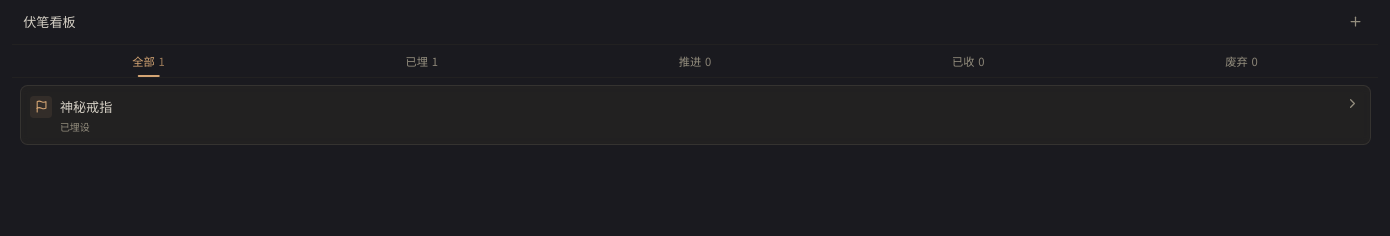
Test: ForeshadowPanel › 展开时显示 notes（若有）
The image size is (1390, 236).
Click the text "神秘戒指" at (86, 106), box [60, 96, 112, 117]
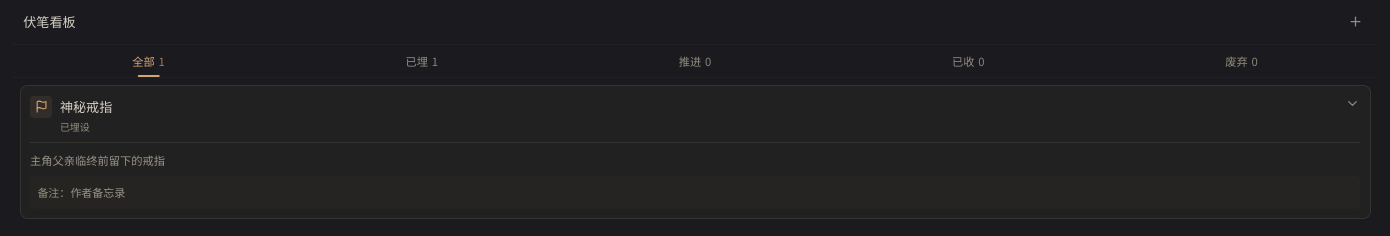
Expected: the text "作者备忘录" is shown, [70, 184, 125, 200]
